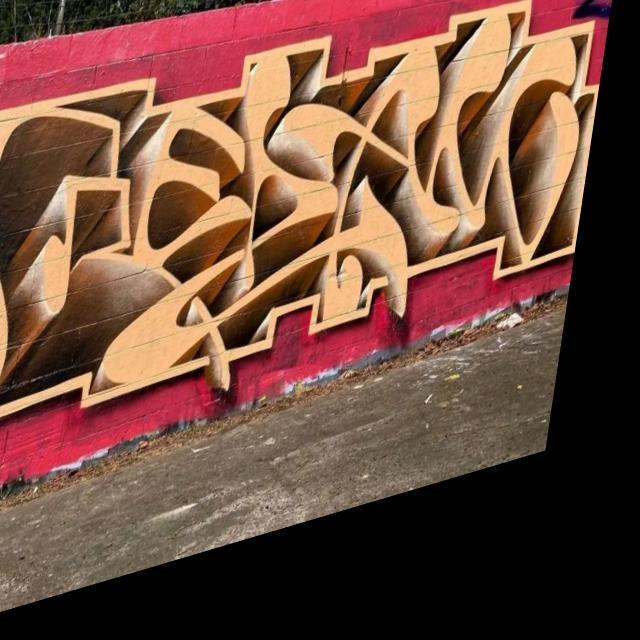-: (0, 0, 630, 497)
